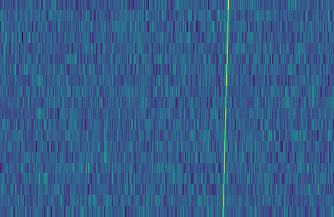signal: (219, 0, 233, 217)
